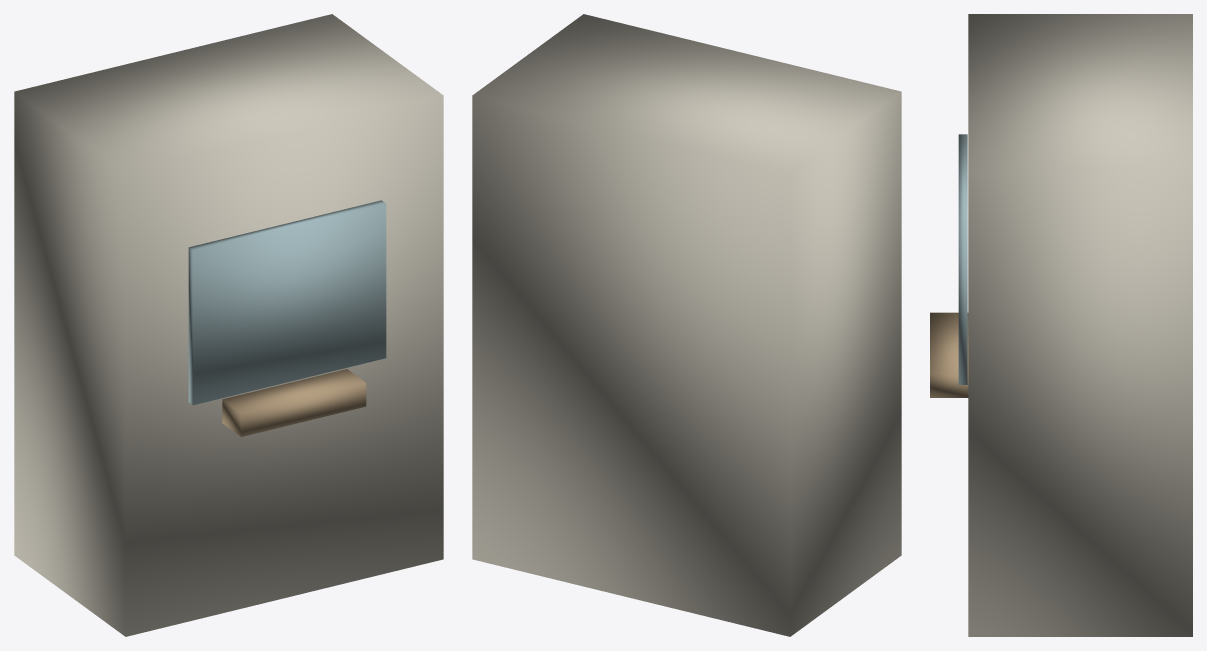
The model's file is ticket_booth.glb.
3 renders of one model, left to right at view 1: azimuth 30°, elevation 25°; view 2: azimuth 150°, elevation 25°; view 3: azimuth 270°, elevation 25°, orthographic.
Visible parts, largest first — view 1: world; view 2: world; view 3: world.
Boxes of the visible parts, left/top/right/bottom form: world: left=14, top=14, right=443, bottom=636; world: left=472, top=14, right=901, bottom=636; world: left=930, top=14, right=1192, bottom=636.
Bounding box in the file's own units: 1.4 × 1.95 × 0.995.
